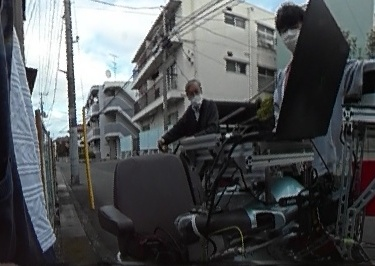person: (165, 78, 225, 149)
